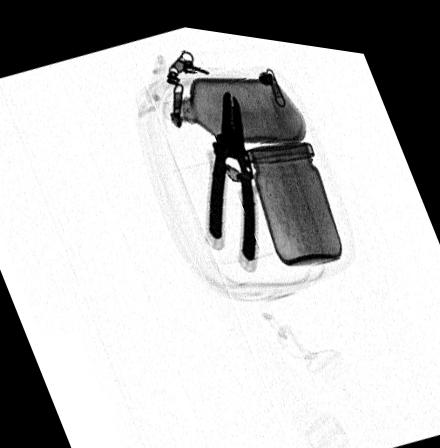Pliers: (206, 84, 256, 256)
